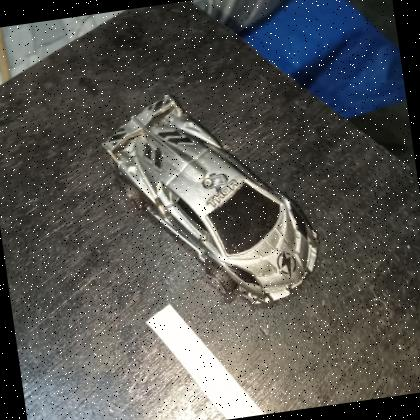Car: (102, 97, 319, 305)
